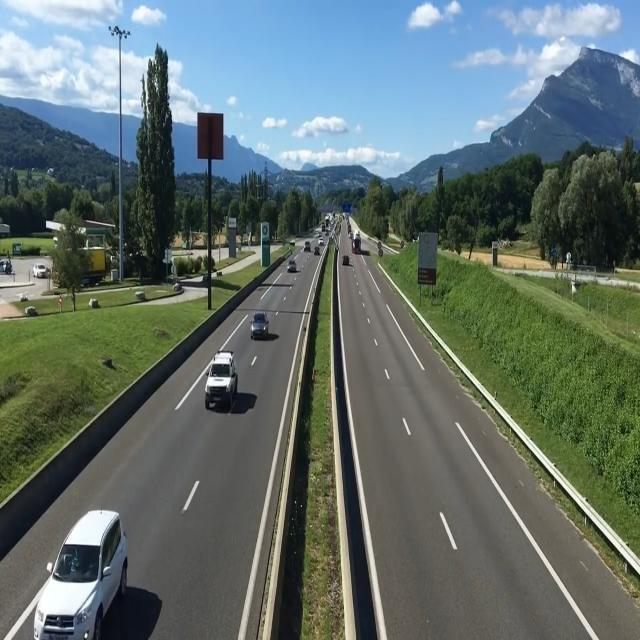Car: (27, 508, 132, 640), (203, 350, 240, 410), (250, 312, 270, 339), (286, 260, 298, 274), (313, 245, 321, 257), (342, 255, 349, 265)
